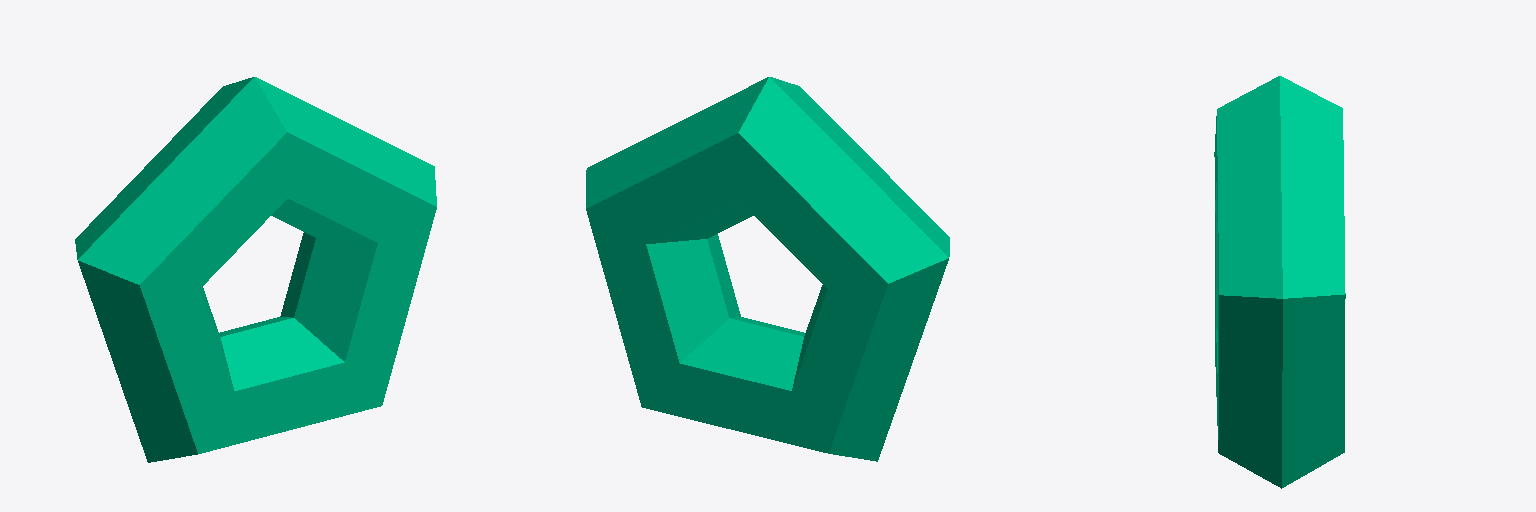
The model's file is cursor.obj.
3 renders of one model, left to right at view 1: azimuth 30°, elevation 25°; view 2: azimuth 150°, elevation 25°; view 3: azimuth 270°, elevation 25°, orthographic.
Parts seen in each view (by area): view 1: Torus; view 2: Torus; view 3: Torus.
Boxes of the visible parts, x1=… form: Torus: x1=75, y1=77, x2=436, y2=462; Torus: x1=586, y1=77, x2=949, y2=461; Torus: x1=1214, y1=76, x2=1345, y2=488.
Size of the model in its own units: 0.0571 by 0.0545 by 0.018.